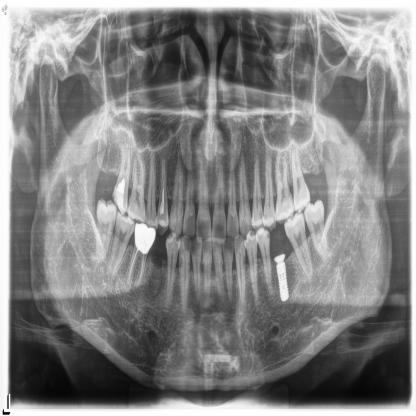ITI: (275, 258, 292, 305)
